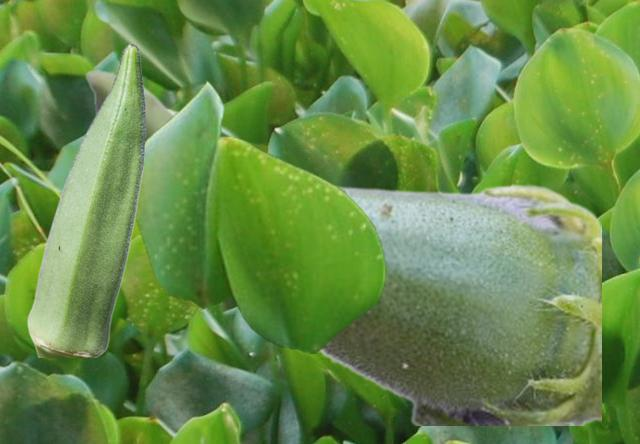okra: (84, 68, 600, 424), (27, 43, 145, 356)
